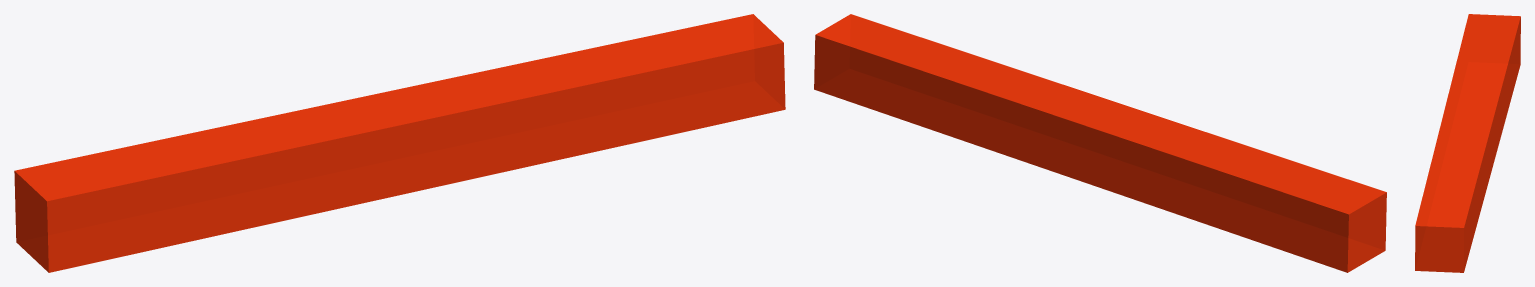
The model's file is Event_421364160_EErechit_17.fbx.
The picture shows the model from 3 angles, left to right: view 1: azimuth 30°, elevation 25°; view 2: azimuth 150°, elevation 25°; view 3: azimuth 270°, elevation 25°; orthographic projection. The views are drawn at different scales.
Parts seen in each view (by area): view 1: Model; view 2: Model; view 3: Model.
Part boxes in pixels (bbox=[...]): Model: bbox=[14, 14, 785, 272]; Model: bbox=[814, 14, 1386, 272]; Model: bbox=[1415, 14, 1520, 272].
Size of the model in its own units: 0.7935 by 0.0974 by 0.1564.
